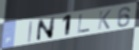1: (61, 13, 73, 38)
6: (117, 6, 133, 28)
I: (27, 20, 34, 43)
K: (96, 9, 113, 31)
L: (77, 13, 92, 34)
N: (36, 16, 57, 42)
